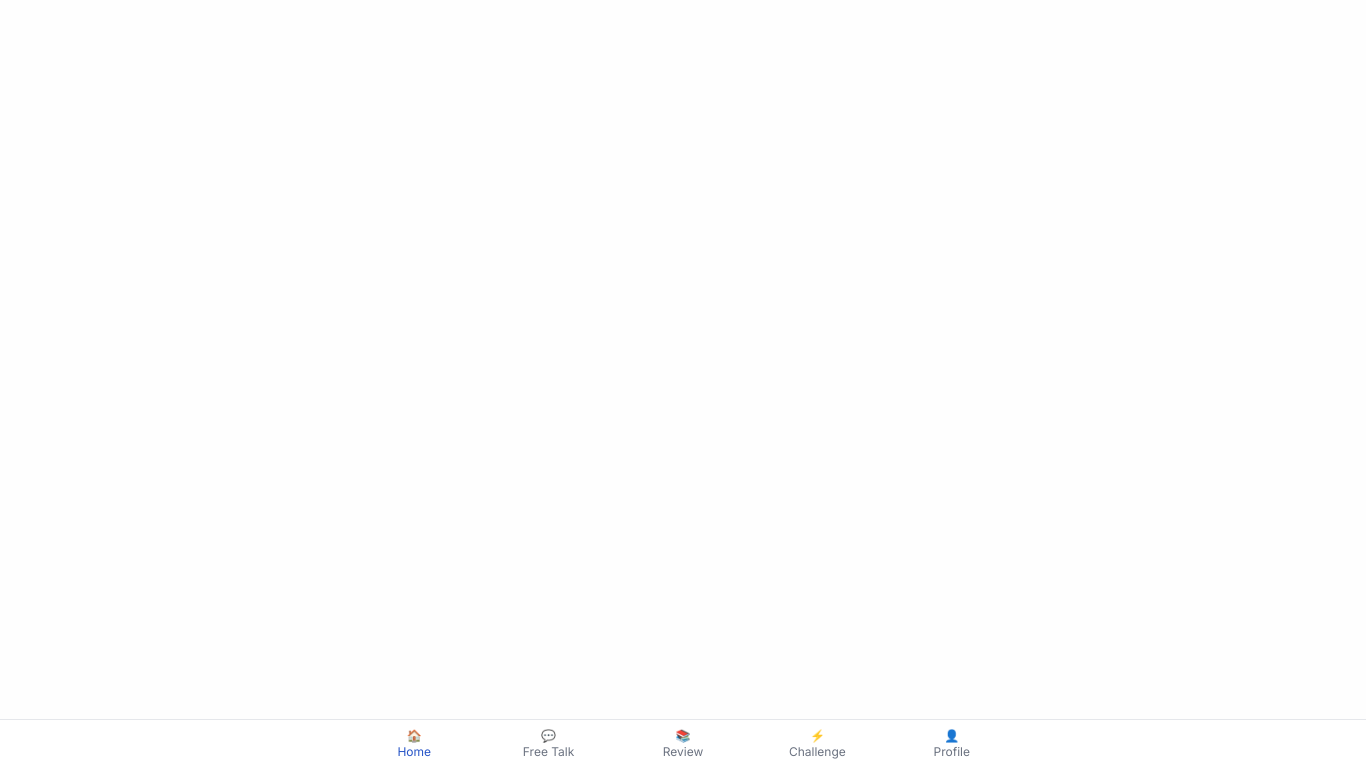
it: TutorFooterNav › clicking Review opens the ComingSoon sheet
The width and height of the screenshot is (1366, 768).
What coordinates should you click on to do the following:
click the text "Review"
I would click on:
 (683, 752)
Its box is [663,744,703,760].
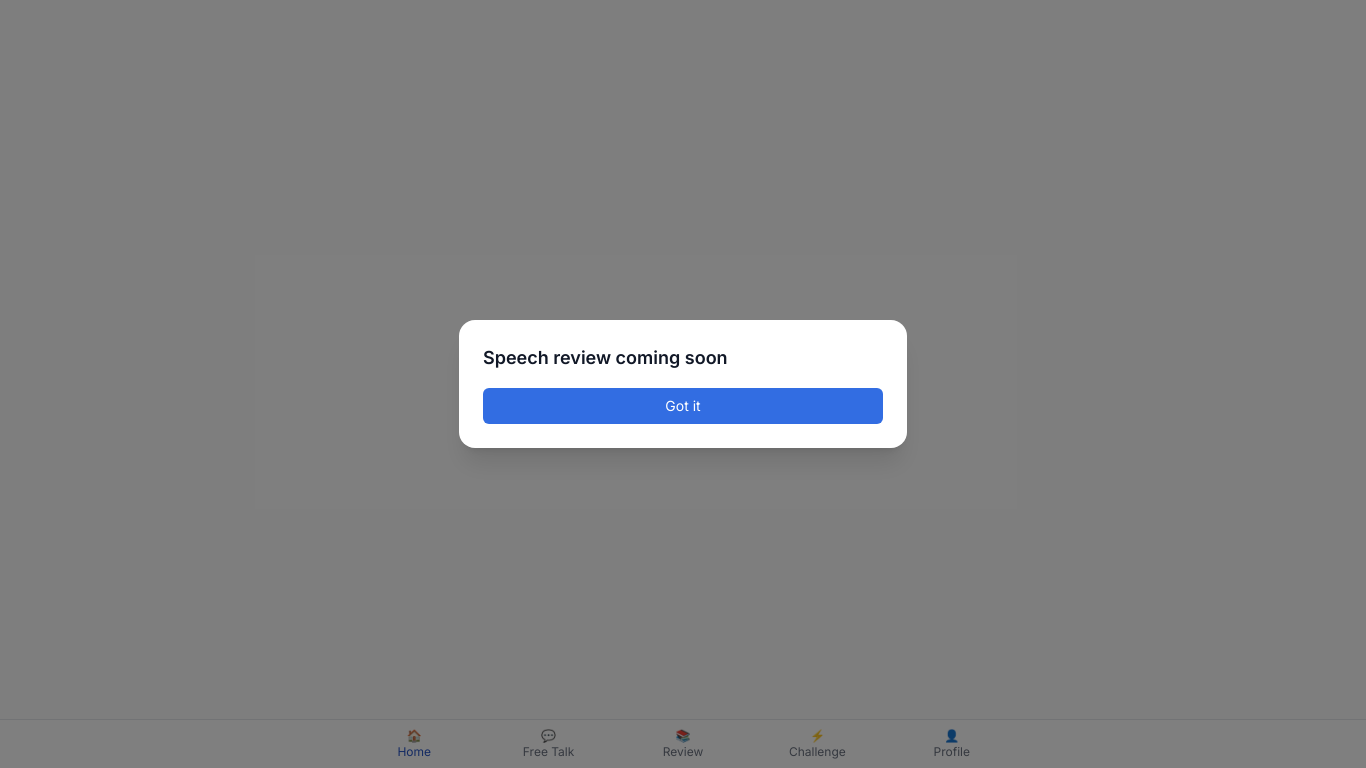
Expected: the heading "Speech review coming soon" is shown, [483,347,728,368]
